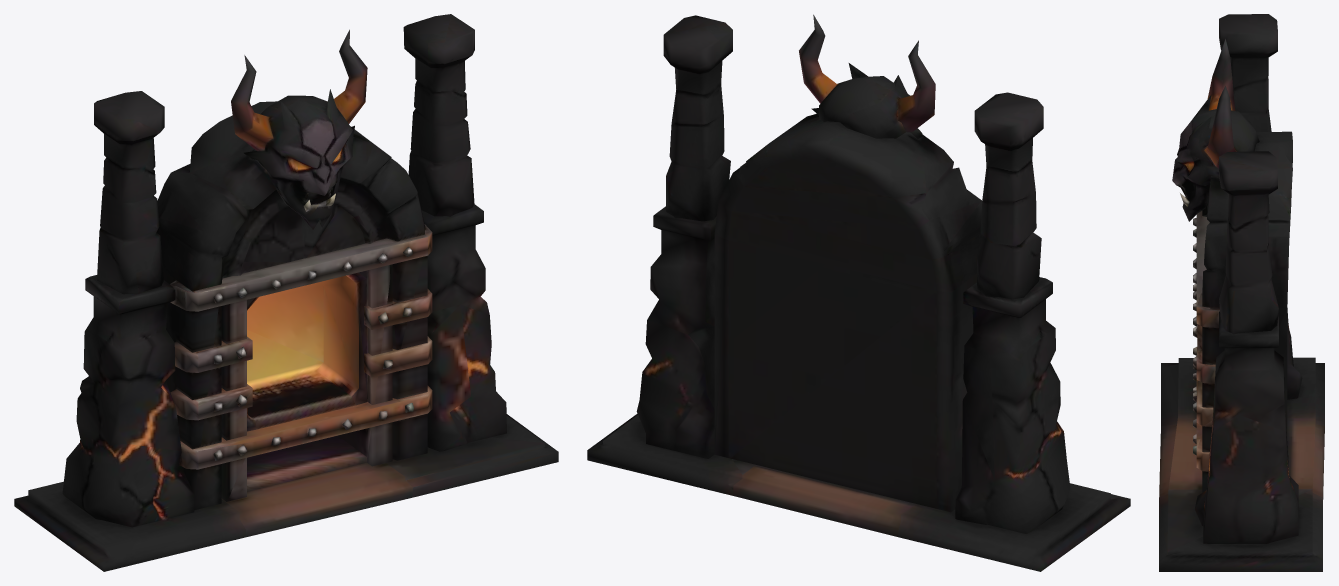
File: monumental_infernal_furnace.glb
The picture shows the model from 3 angles, left to right: view 1: azimuth 30°, elevation 25°; view 2: azimuth 150°, elevation 25°; view 3: azimuth 270°, elevation 25°; orthographic projection. The views are drawn at different scales.
Visible parts, largest first — view 1: tripo_node_a7eeb503-b1ea-4a46-9c8d-8111dd038247; view 2: tripo_node_a7eeb503-b1ea-4a46-9c8d-8111dd038247; view 3: tripo_node_a7eeb503-b1ea-4a46-9c8d-8111dd038247.
Part boxes in pixels (left/top/right/bottom): tripo_node_a7eeb503-b1ea-4a46-9c8d-8111dd038247: left=14, top=14, right=558, bottom=571; tripo_node_a7eeb503-b1ea-4a46-9c8d-8111dd038247: left=587, top=14, right=1130, bottom=571; tripo_node_a7eeb503-b1ea-4a46-9c8d-8111dd038247: left=1159, top=14, right=1324, bottom=571.
Bounding box in the file's own units: 9.52 × 9 × 3.3.
1 material, 1 textured.
